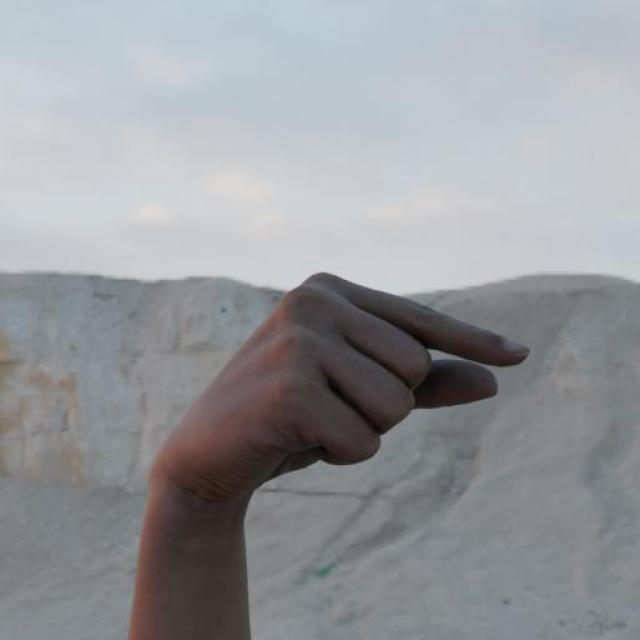G: (150, 266, 535, 513)
